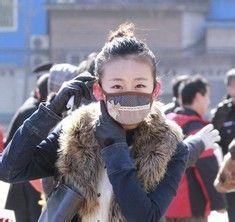OK: (102, 74, 152, 124)
